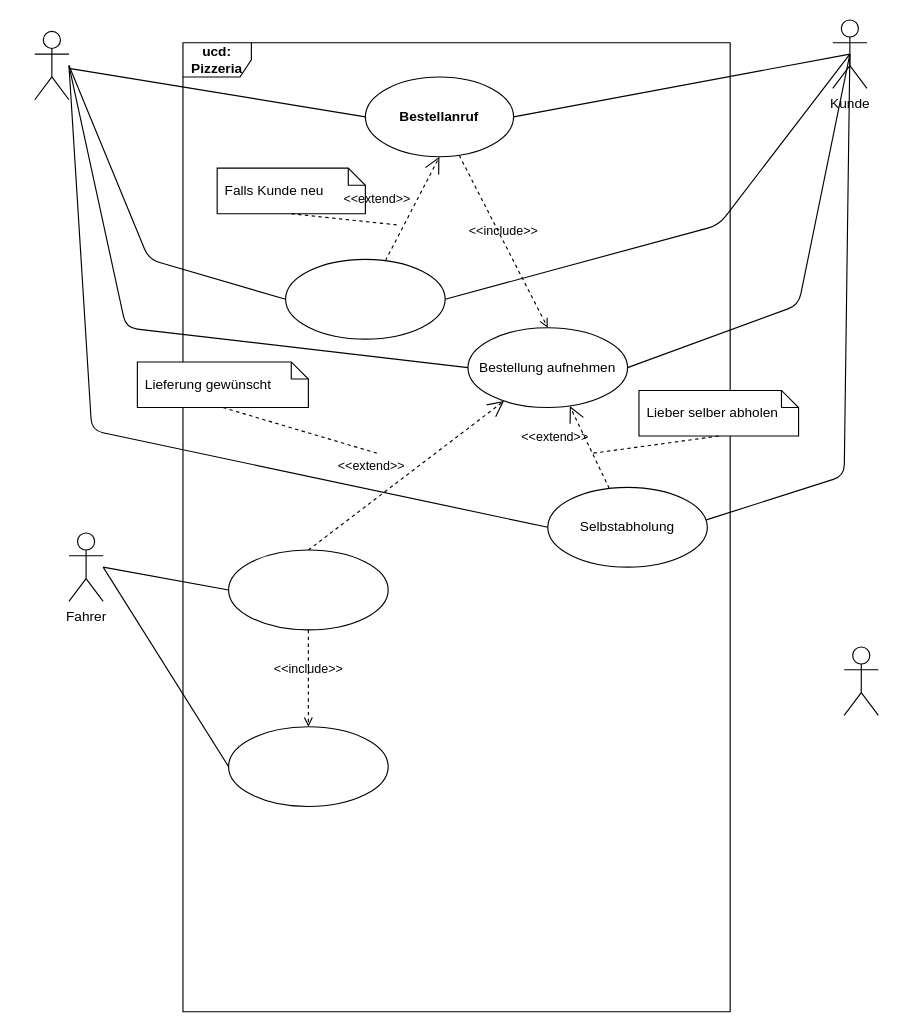
Image size: 898x1032. Some labels were removed from this diagram. The shapes that lost their labels are listed below. From the top down, each one's box as (x1, y1, x2, y2) in pixels, then its label:
(34, 30, 69, 100): Mitarbeiter
(284, 258, 445, 339): Kundendaten erfassen
(227, 549, 388, 630): Ausliefern
(843, 646, 878, 715): user
(227, 726, 388, 807): SMS senden
